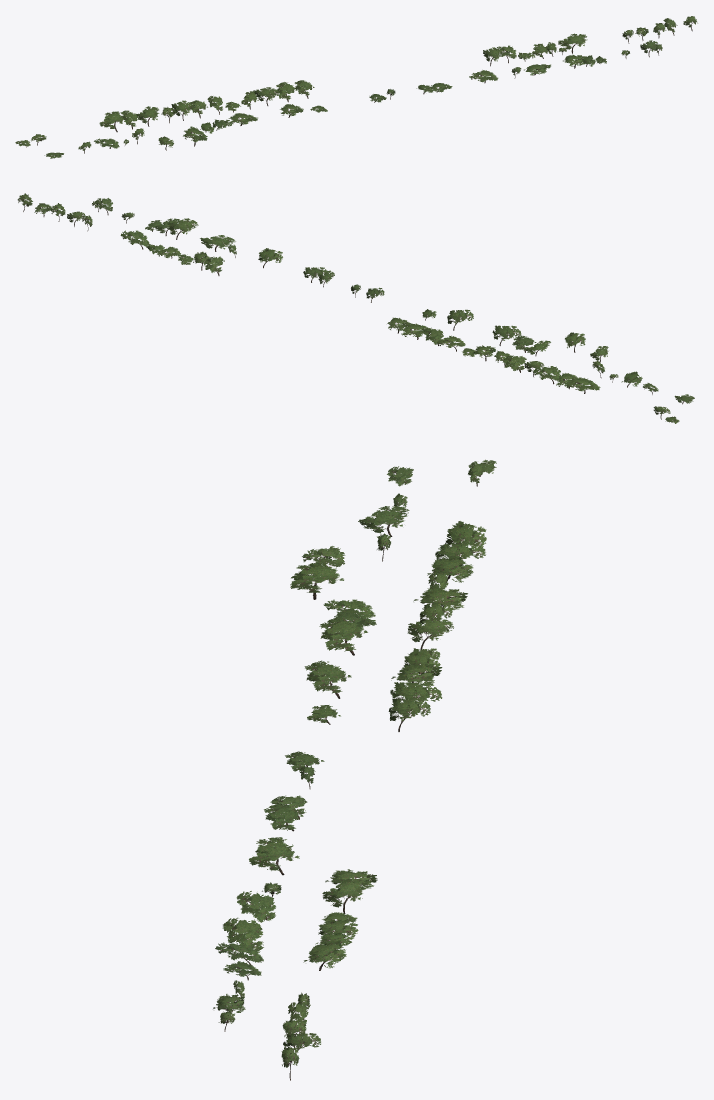
3 views of the same model, one above another, from view 1: azimuth 30°, elevation 25°; view 2: azimuth 150°, elevation 25°; view 3: azimuth 270°, elevation 25° (orthographic). The views are drawn at different scales.
Parts seen in each view (by area): view 1: Marina Boulevard Sindora crowns, Marina Boulevard Sindora bark; view 2: Marina Boulevard Sindora crowns, Marina Boulevard Sindora bark; view 3: Marina Boulevard Sindora crowns.
Part boxes in pixels (bbox=[...]): Marina Boulevard Sindora crowns: bbox=[15, 16, 697, 158]; Marina Boulevard Sindora bark: bbox=[21, 22, 693, 158]; Marina Boulevard Sindora crowns: bbox=[17, 193, 694, 423]; Marina Boulevard Sindora bark: bbox=[23, 202, 684, 422]; Marina Boulevard Sindora crowns: bbox=[213, 459, 496, 1067].
Size of the model in its own units: 492 by 12.35 by 98.67.
2 materials, 2 textured.
